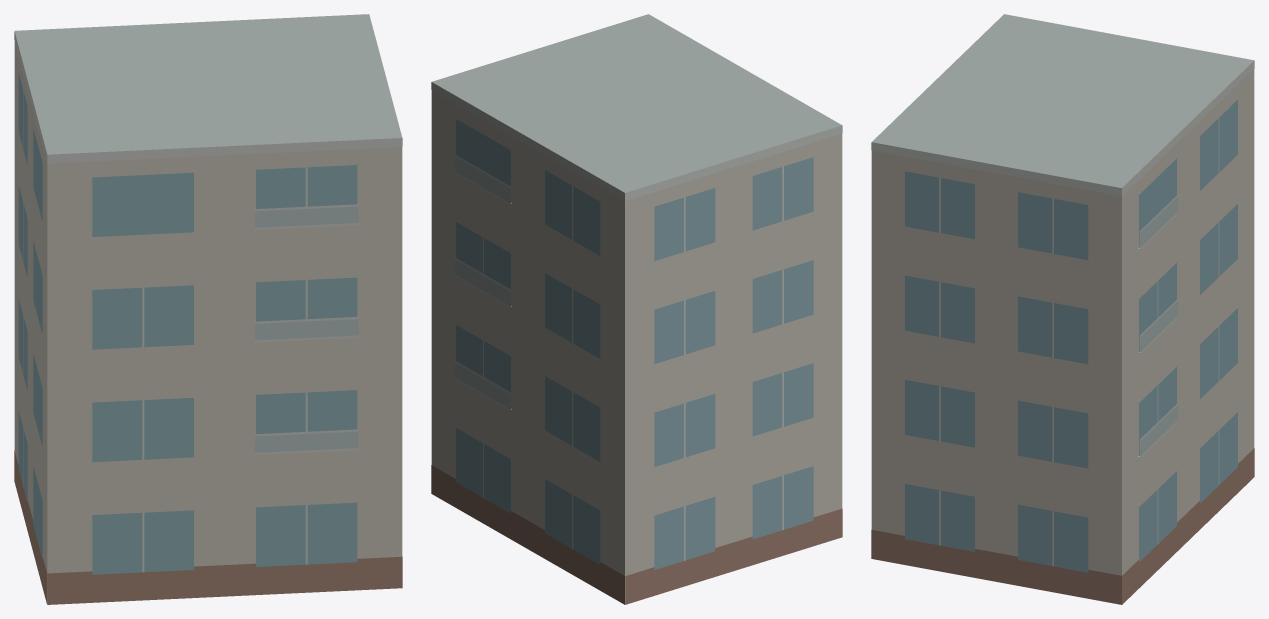
Rendered from survey-upis-32941341.glb.
3 renders of one model, left to right at view 1: azimuth 30°, elevation 25°; view 2: azimuth 150°, elevation 25°; view 3: azimuth 270°, elevation 25°, orthographic. The views are drawn at different scales.
Visible parts, largest first — view 1: survey-upis-32941341.tmp; view 2: survey-upis-32941341.tmp; view 3: survey-upis-32941341.tmp.
Part boxes in pixels (x1=…): survey-upis-32941341.tmp: x1=14, y1=14, x2=402, y2=604; survey-upis-32941341.tmp: x1=431, y1=14, x2=842, y2=604; survey-upis-32941341.tmp: x1=871, y1=14, x2=1254, y2=604.
Size of the model in its own units: 11.08 by 12.35 by 10.29.
